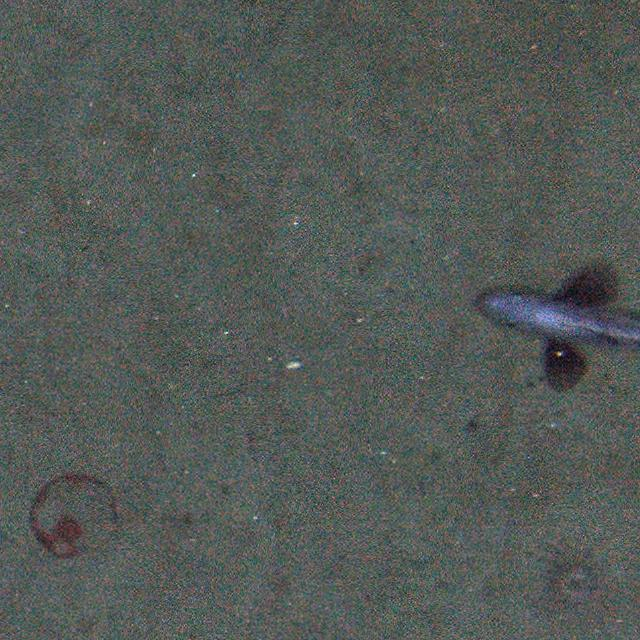roundfish: (468, 260, 640, 395)
